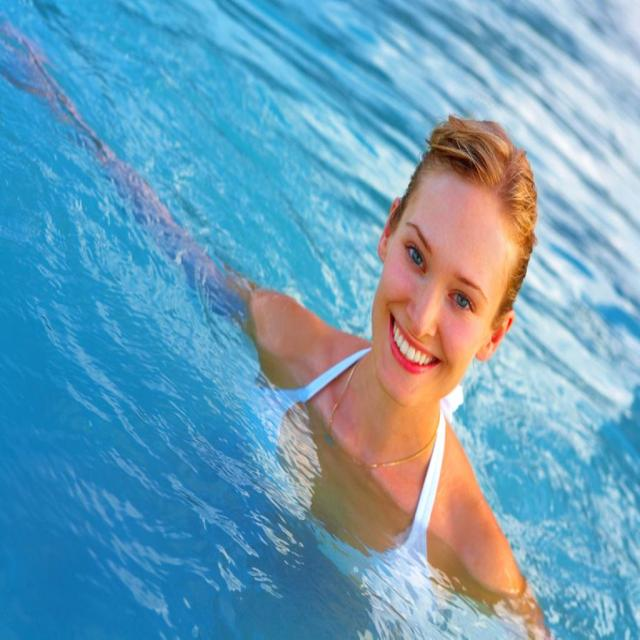Face: (353, 141, 529, 424)
